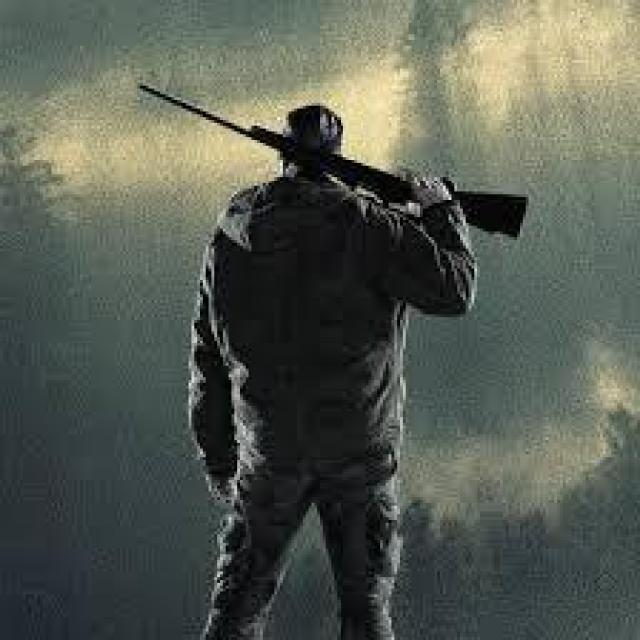Rifle: (137, 80, 536, 244)
